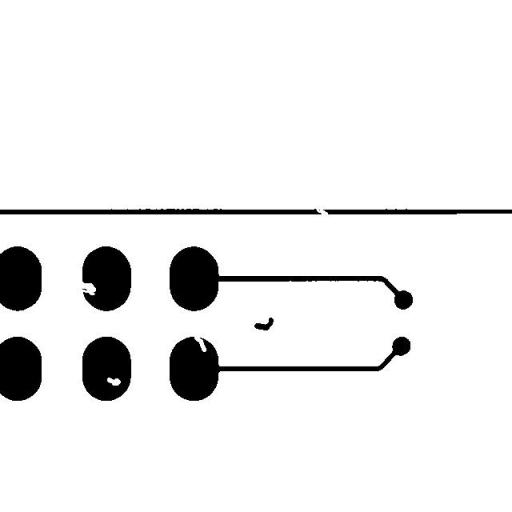copper: (246, 310, 281, 338)
mousebite: (72, 274, 103, 302), (186, 328, 214, 359)
open: (307, 198, 335, 224)
pin-hole: (99, 370, 128, 392)
